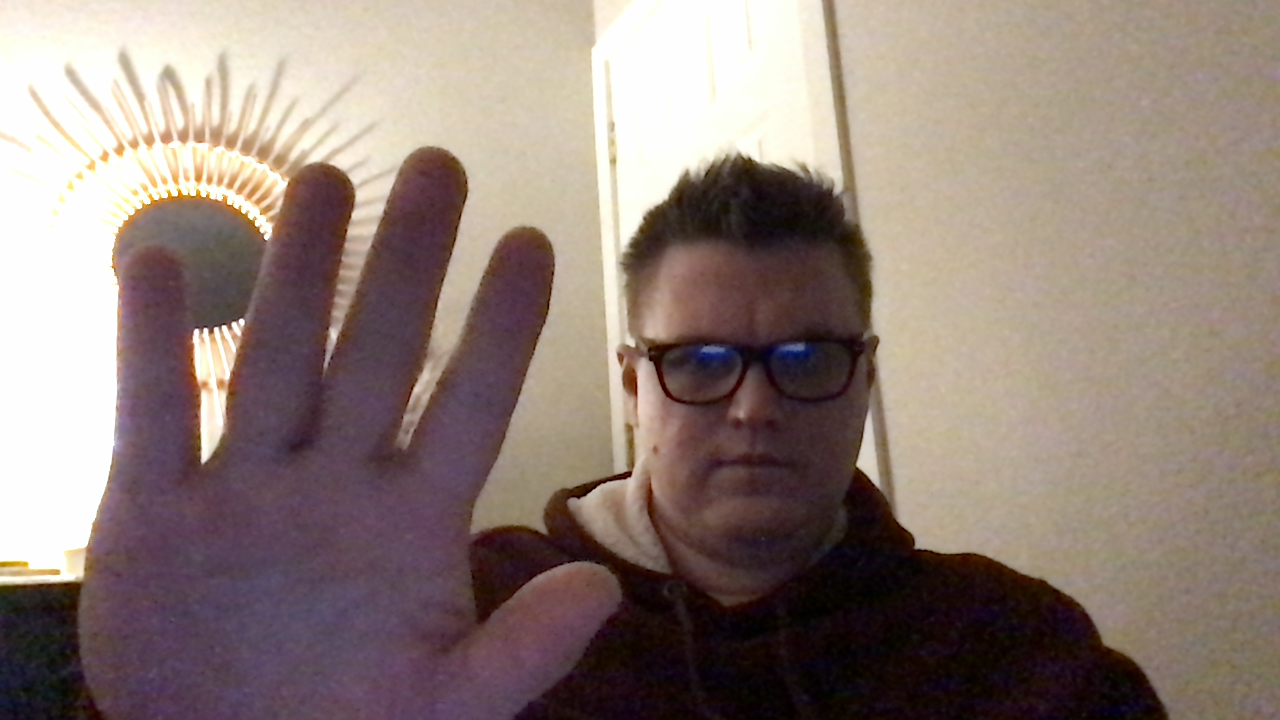hello: (75, 143, 622, 720)
